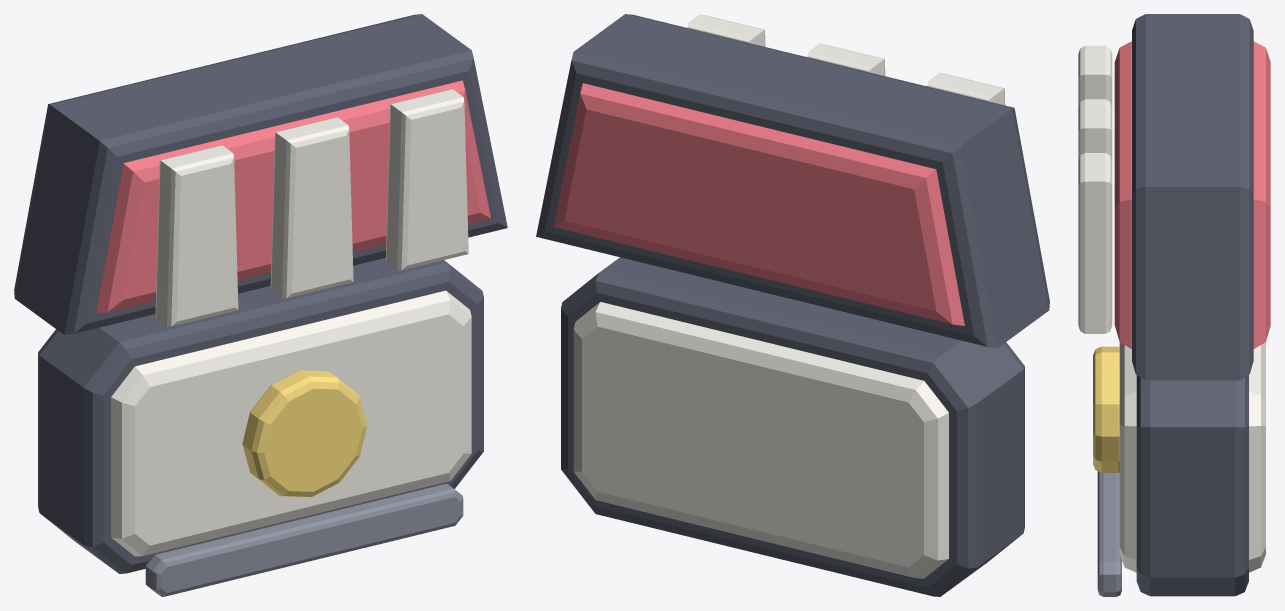
The model's file is game-ui-icon-library-shop-marker-476651be__19043.glb.
3 renders of one model, left to right at view 1: azimuth 30°, elevation 25°; view 2: azimuth 150°, elevation 25°; view 3: azimuth 270°, elevation 25°, orthographic. The views are drawn at different scales.
Visible parts, largest first — view 1: shop-marker; view 2: shop-marker; view 3: shop-marker.
Boxes of the visible parts, x1=… form: shop-marker: x1=14, y1=14, x2=507, y2=596; shop-marker: x1=536, y1=14, x2=1049, y2=596; shop-marker: x1=1078, y1=14, x2=1270, y2=596.
Size of the model in its own units: 0.9691 by 0.94 by 0.3828.
